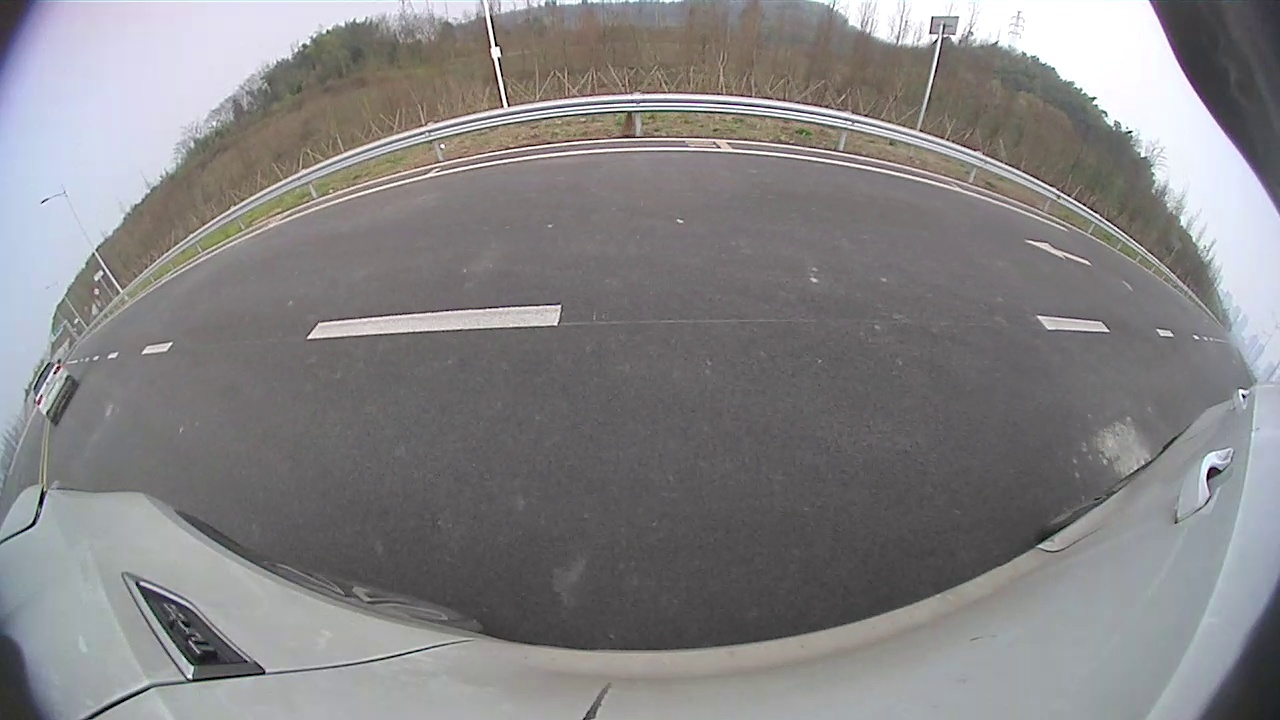car: (29, 359, 79, 425)
